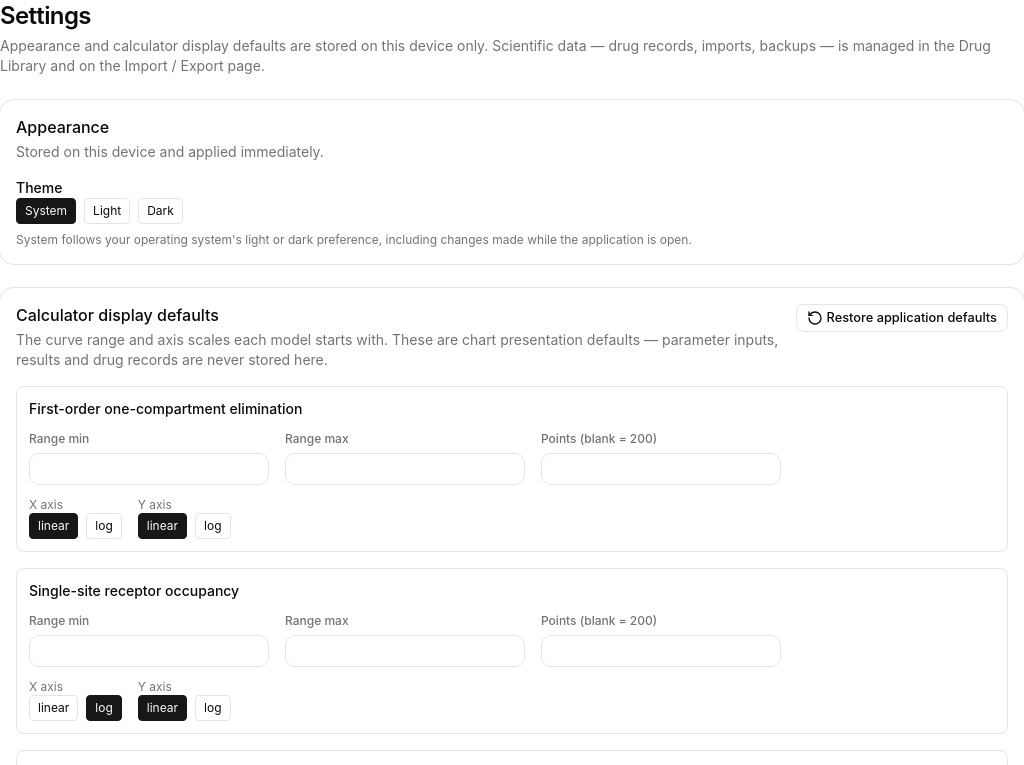
SettingsPage — calculator display defaults › restore button restores calculator defaults but keeps the theme
The width and height of the screenshot is (1024, 765).
Click the radio button labelled "Dark" at (161, 211), box [138,198,183,224]
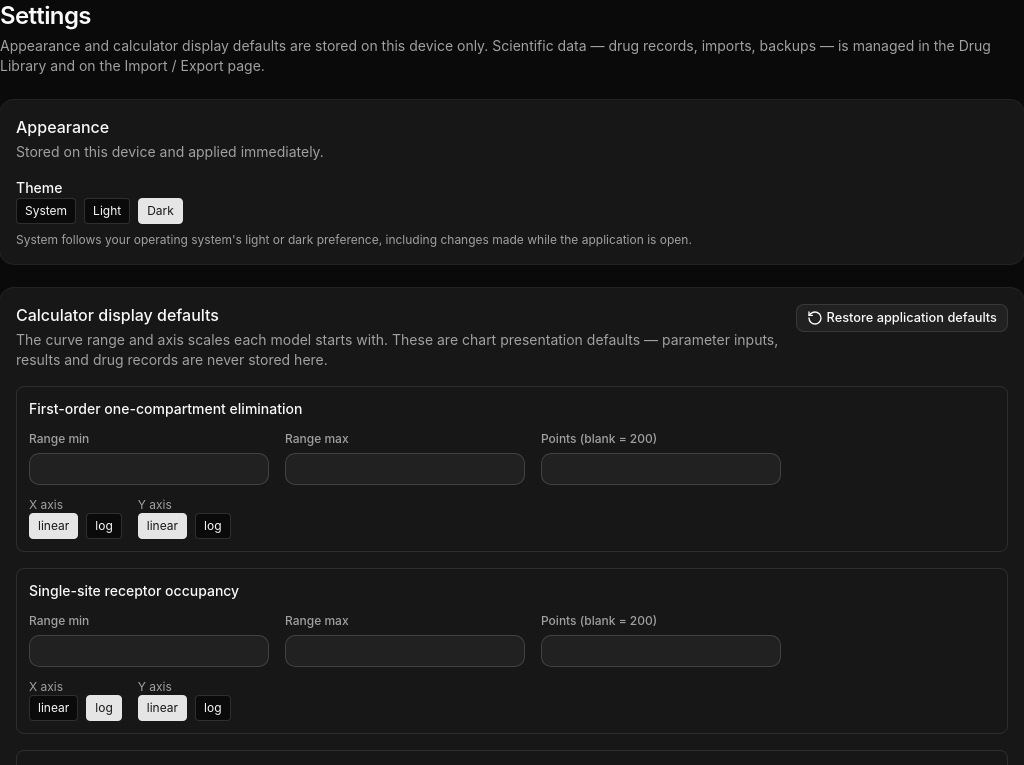
Type "5" into the field with test id "pref-range-min-occupancy.single-site" at (149, 651), box [29,635,269,667]
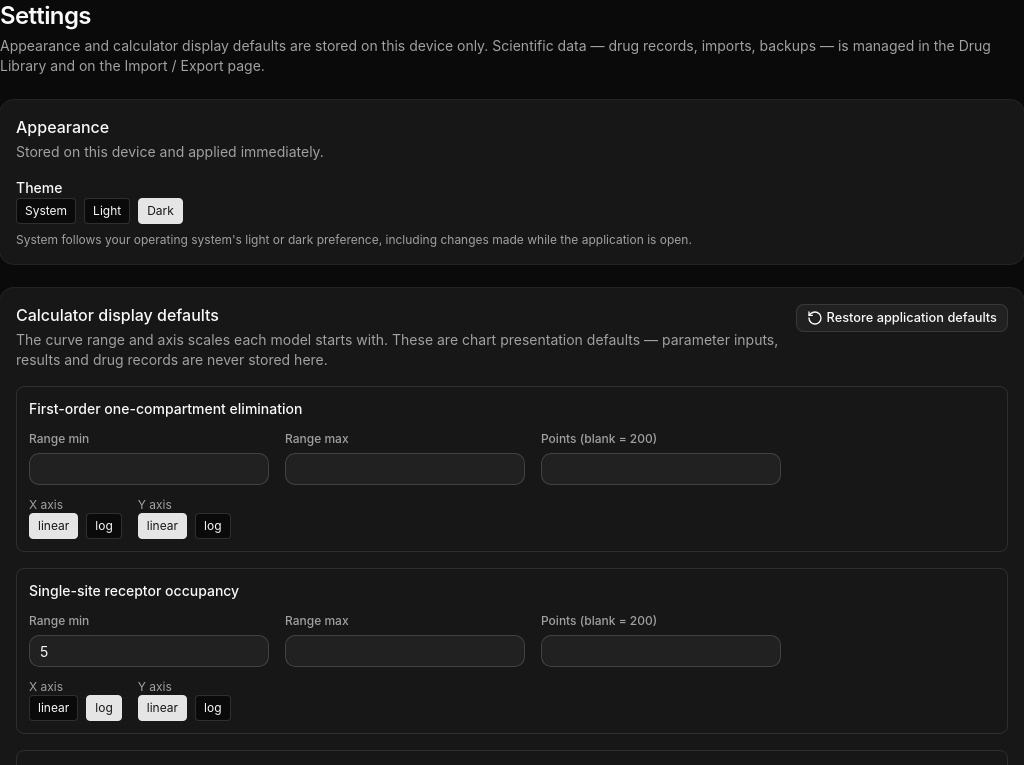
Click the button with test id "restore-calculator-defaults" at (902, 318), box [796,304,1008,332]
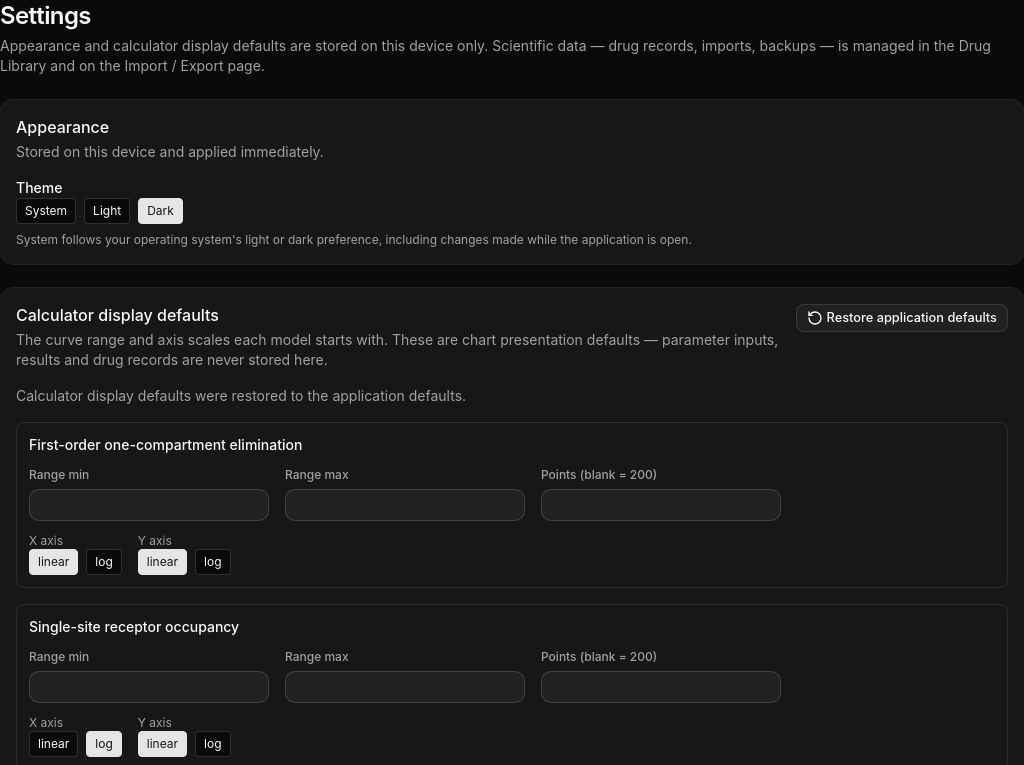
Check: the field with test id "pref-range-min-occupancy.single-site" is empty, box [29,671,269,703]
Check: the message "Calculator display defaults were restored to the application defaults." is shown, box [16,387,466,404]
